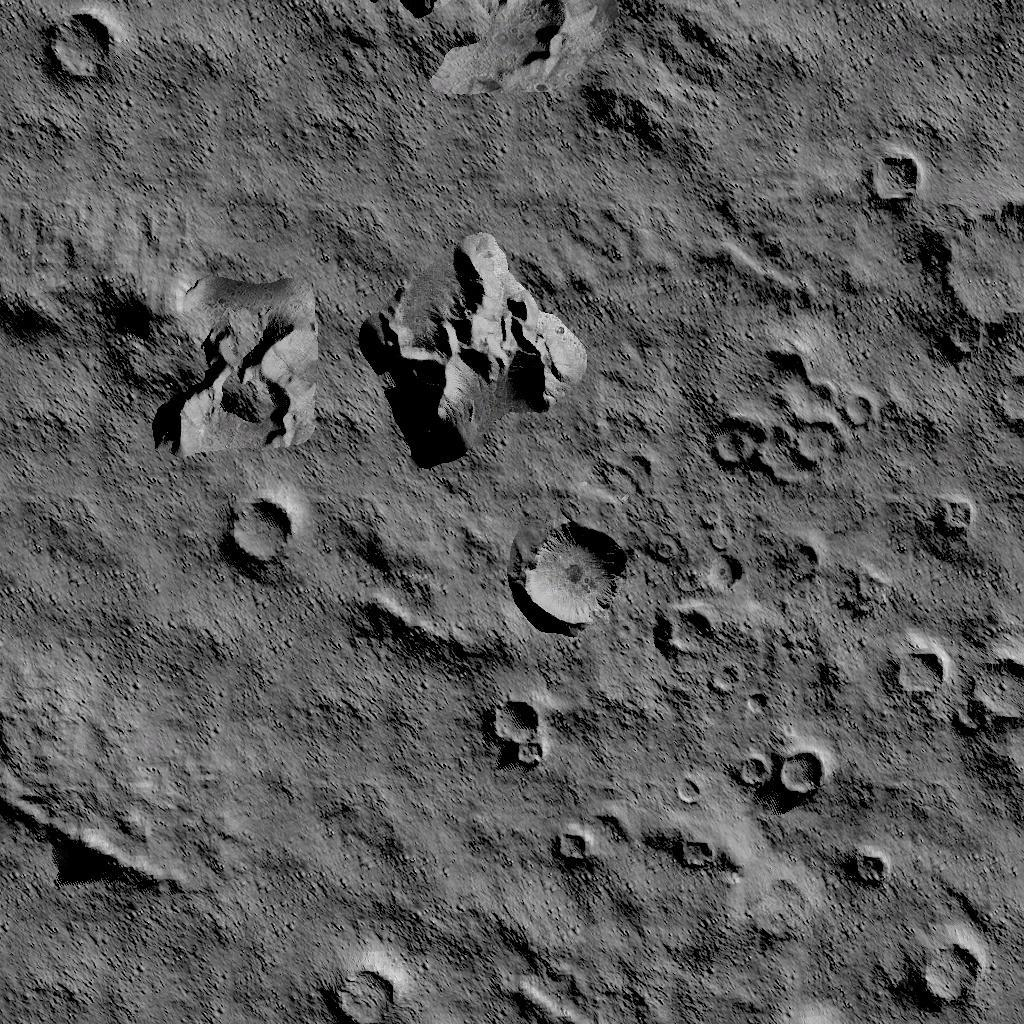Boulders: (0, 218, 324, 462), (361, 228, 593, 478), (346, 0, 634, 120), (330, 511, 494, 669), (0, 768, 198, 898)
Crater: (704, 348, 884, 488), (932, 202, 1024, 434), (863, 627, 1024, 740), (506, 510, 632, 644), (654, 540, 746, 658), (219, 482, 312, 588), (40, 0, 132, 100), (896, 926, 990, 1016), (321, 944, 419, 1024), (728, 740, 828, 816), (482, 690, 562, 775), (856, 150, 921, 216), (835, 832, 894, 903), (666, 823, 732, 884), (924, 486, 980, 540), (544, 822, 600, 874)
Plan surface: (226, 688, 472, 912), (2, 484, 204, 726), (165, 4, 328, 202), (758, 14, 1021, 126), (0, 927, 300, 1024)
